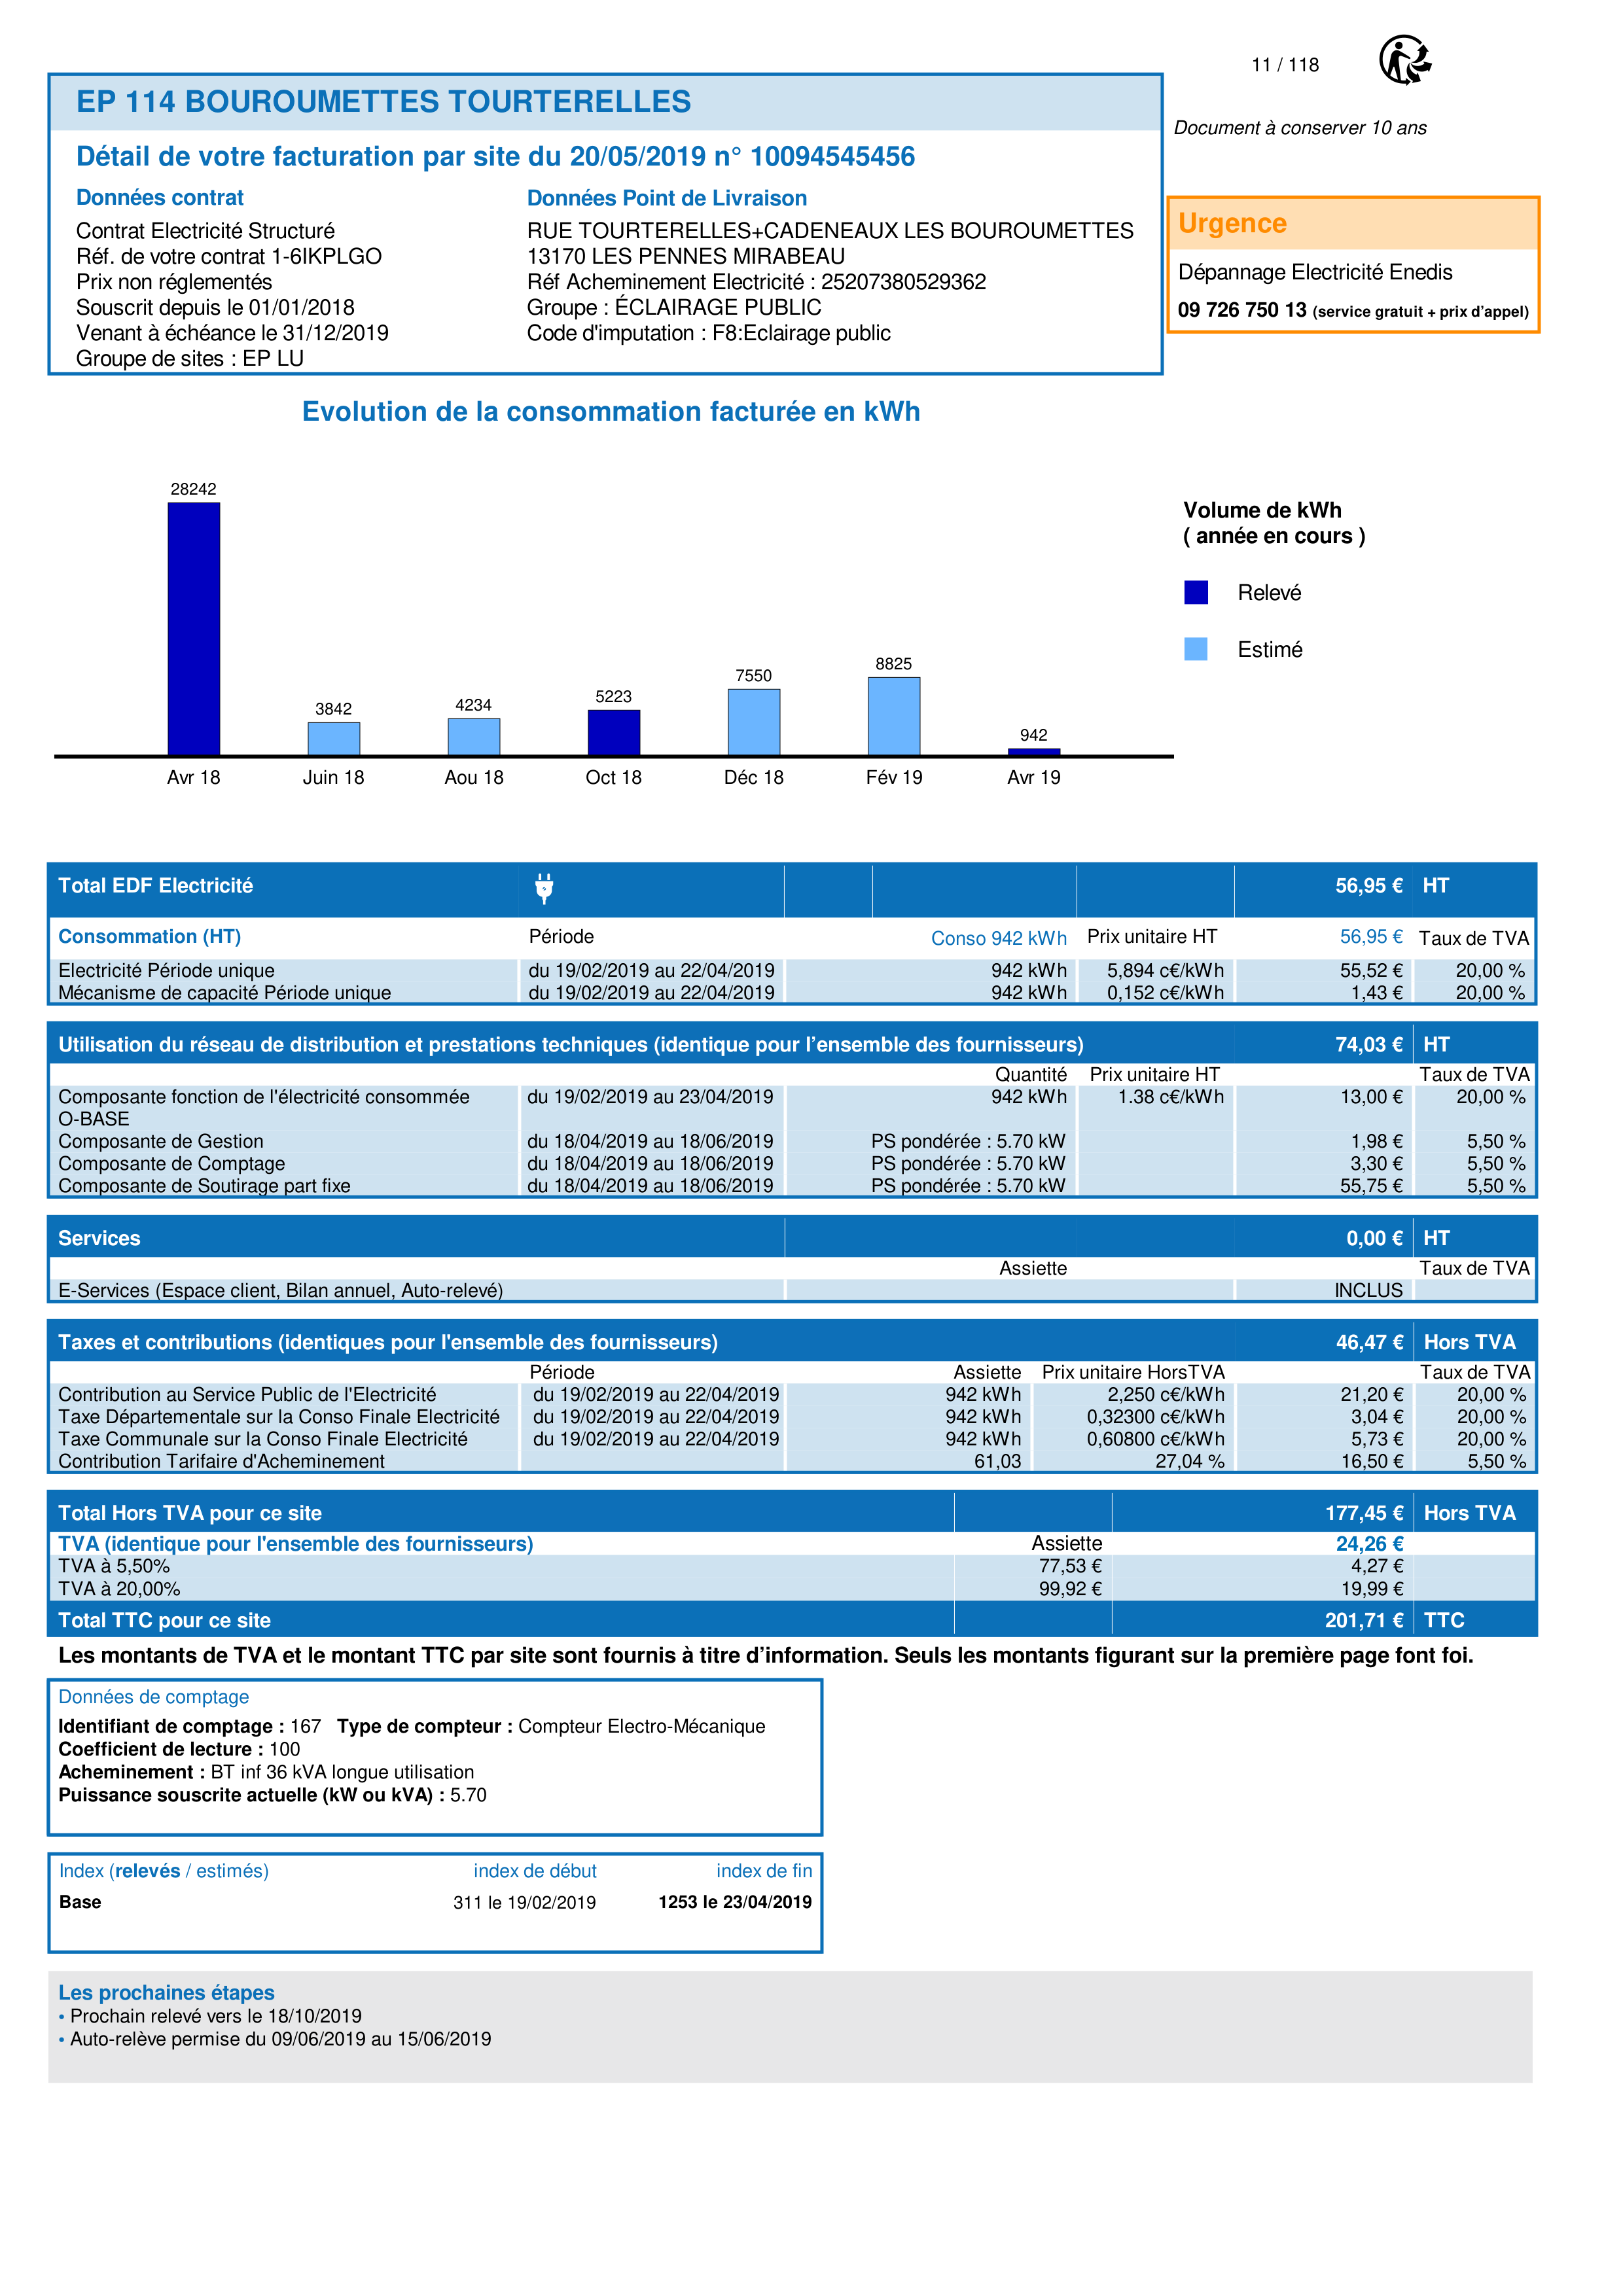area: (46, 1853, 825, 1952)
type_indicator: (48, 1853, 277, 1888)
